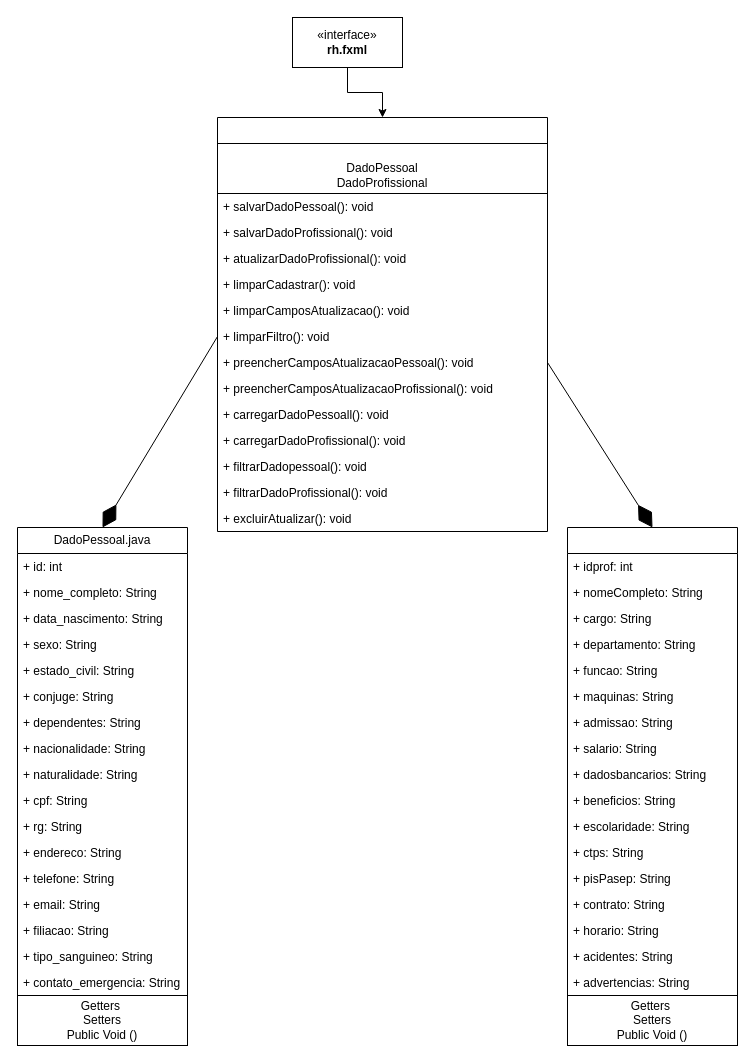
Some shapes in this 755 by 1063 pixel diagram are drawn without their labels. The shapes that lost their labels are listed below. From the top down, each one's box as (x1, y1, x2, y2) in pixels, then its label:
(216, 116, 548, 532): DadoPessoalController.java
(566, 526, 738, 996): DadoProfissional.java
